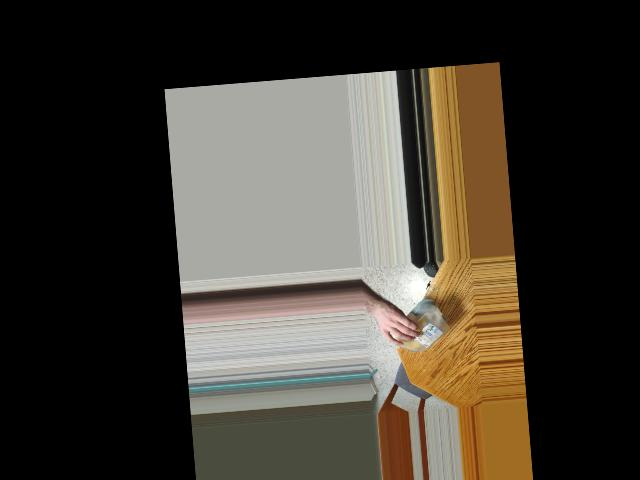cheese: (382, 299, 452, 357)
